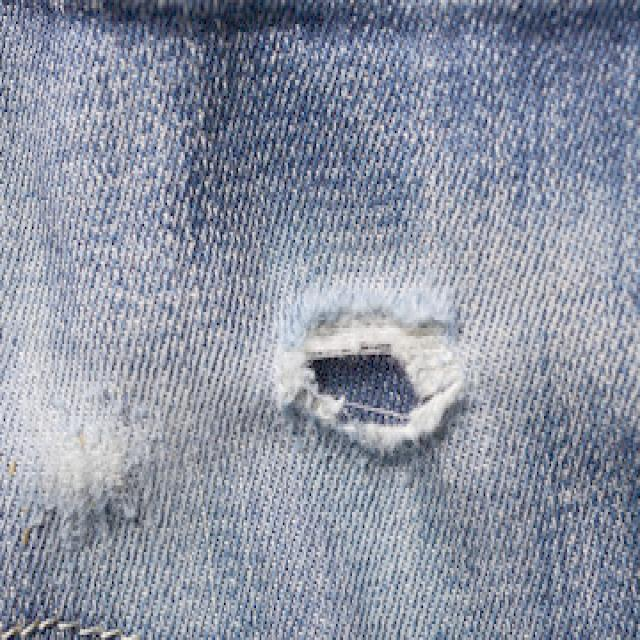seam: (281, 298, 464, 451)
